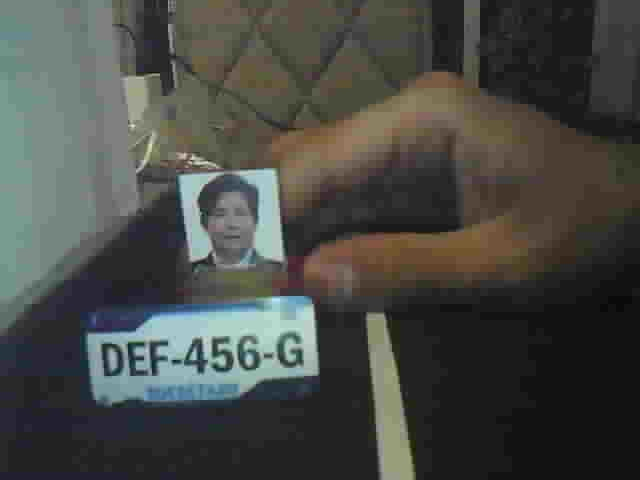PLACA: (80, 293, 322, 413)
ROSTRO: (189, 168, 282, 272)
